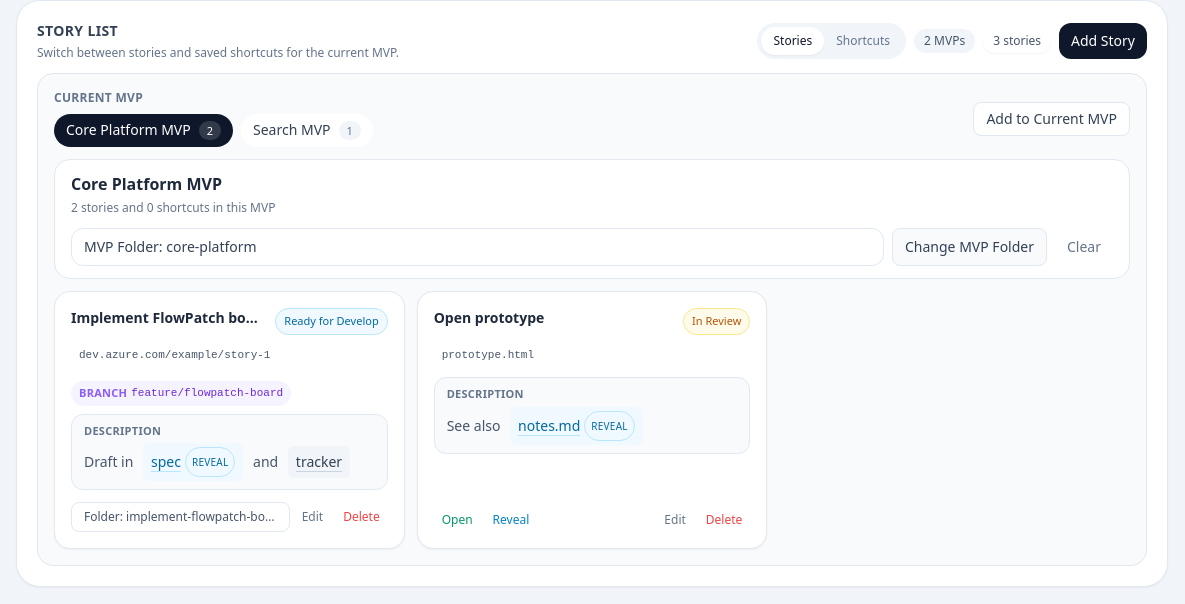
Test case: StoryPanel › switches to another mvp tab
Click the tab "Search MVP1" at point(307, 130), box 241,114 -> 373,147
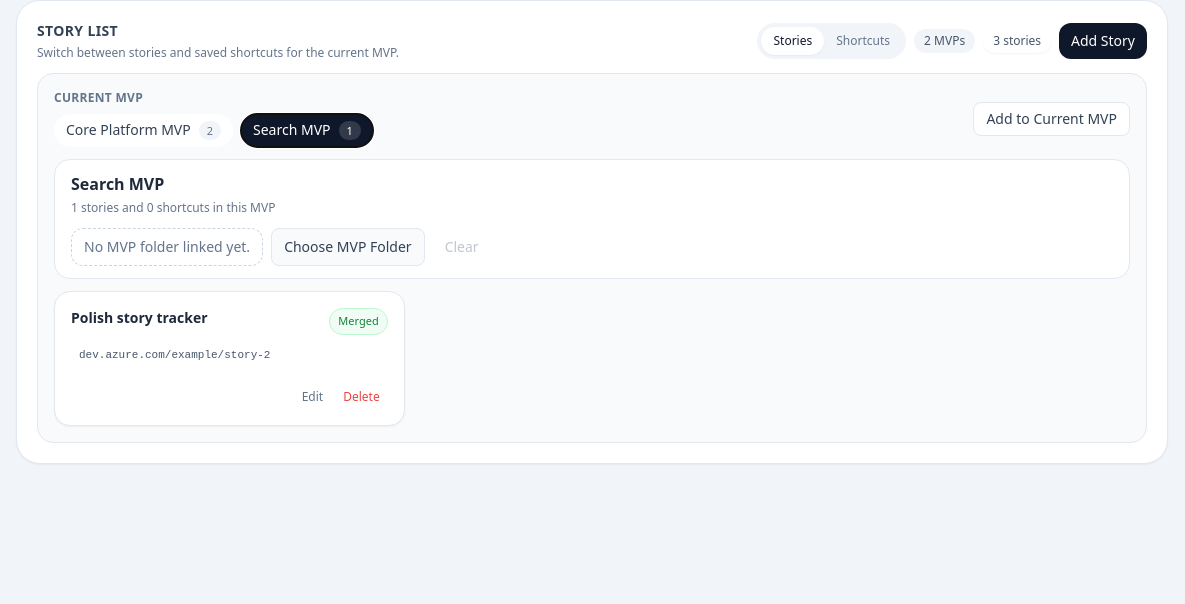
Check: the link "Polish story tracker" is shown, box 71,308 -> 208,327
Check: the link "Implement FlowPatch board" is gone
Check: the text "No MVP folder linked yet." is shown, box 71,228 -> 263,266
